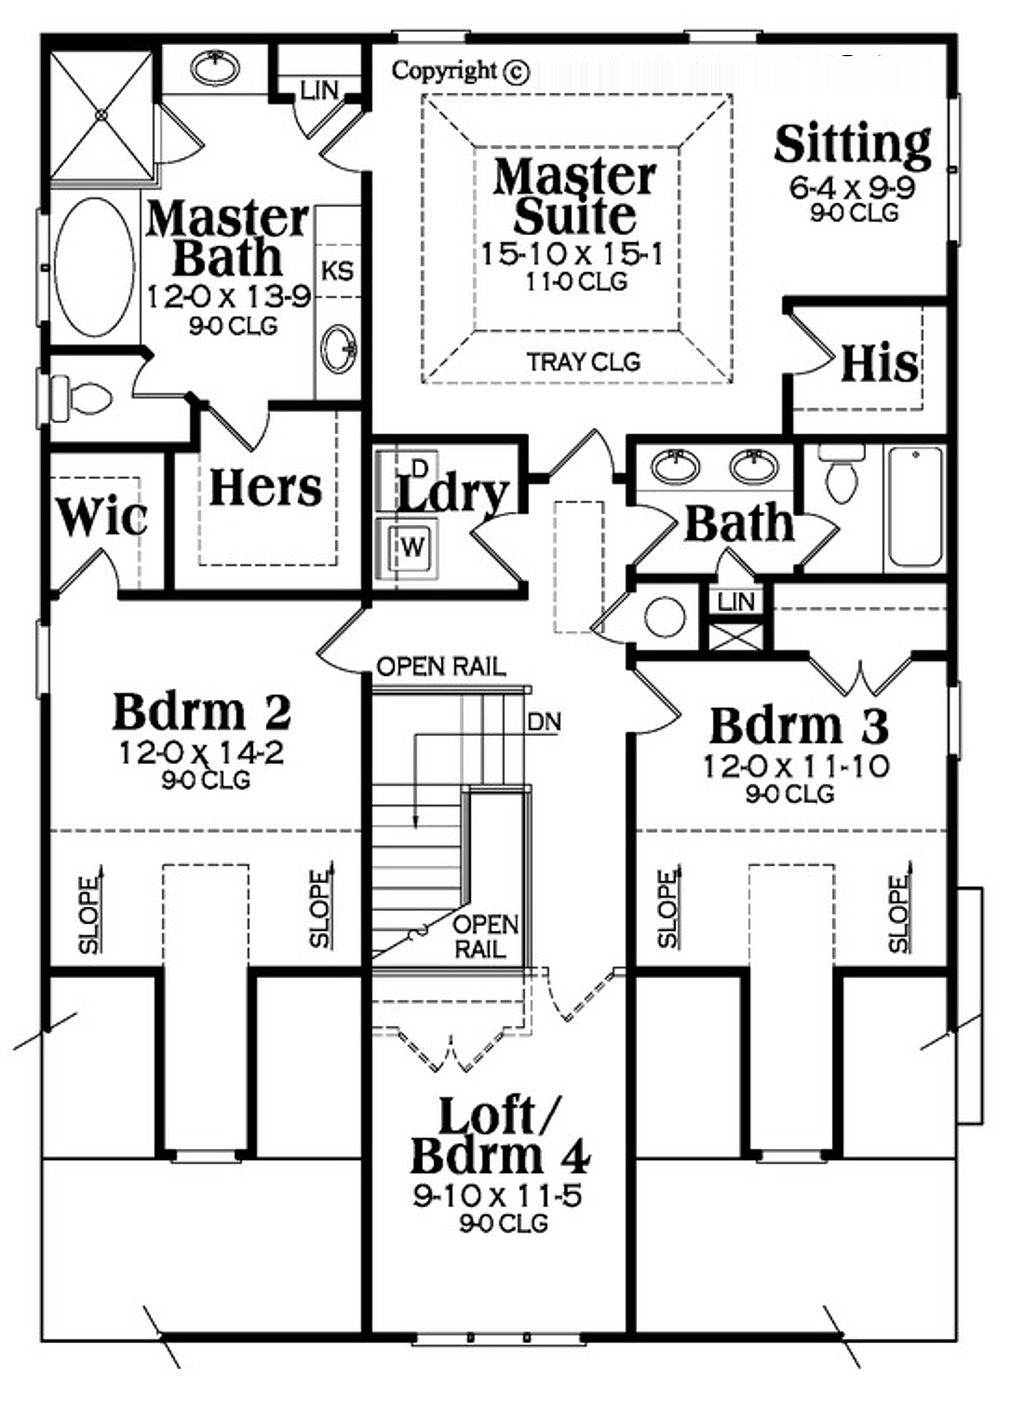door: (308, 592, 382, 685), (388, 1029, 514, 1083), (534, 959, 625, 1031), (801, 644, 913, 699), (199, 389, 280, 457), (621, 661, 693, 737), (551, 429, 628, 492), (619, 496, 678, 574), (60, 533, 123, 603), (311, 105, 378, 171), (467, 509, 523, 585), (782, 305, 834, 382), (151, 96, 205, 163), (132, 339, 184, 404), (788, 509, 841, 568), (588, 587, 636, 650), (291, 92, 349, 144), (706, 539, 760, 580)
large_sink: (45, 366, 132, 433), (812, 433, 875, 505)
small_sink: (636, 433, 782, 492), (310, 305, 370, 383)
stairs: (369, 679, 538, 961)
tub: (36, 179, 148, 347), (886, 437, 954, 579)
window: (408, 1316, 597, 1353), (938, 83, 973, 246), (678, 16, 773, 59), (382, 16, 484, 55), (938, 672, 972, 770), (30, 613, 62, 700), (167, 1142, 249, 1174), (760, 1143, 821, 1172)
